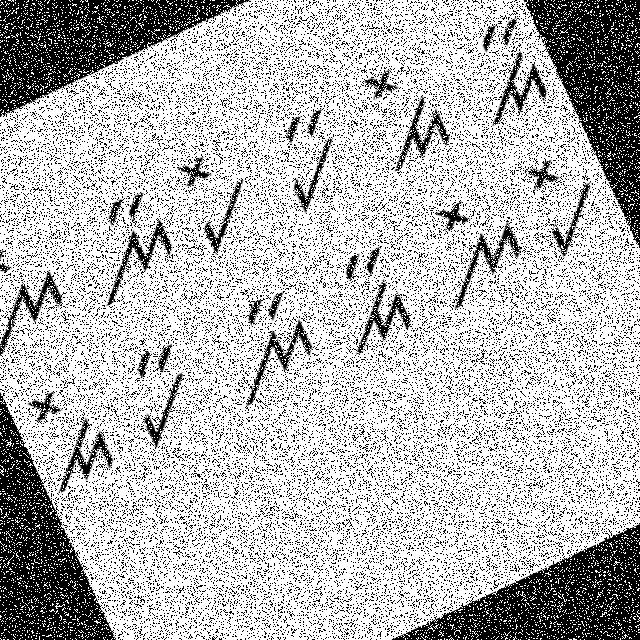dan: (442, 2, 558, 134), (312, 234, 420, 360)
do: (334, 45, 471, 188), (3, 358, 128, 508)
nan: (185, 270, 332, 422), (60, 182, 192, 314)
no: (402, 179, 544, 332), (0, 221, 85, 366)
pan: (93, 322, 213, 460), (256, 100, 366, 222)
po: (161, 134, 278, 264), (502, 137, 618, 268)
